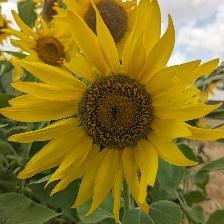sunflower: (1, 1, 224, 224), (69, 1, 148, 61), (12, 11, 72, 70), (39, 1, 66, 26)
